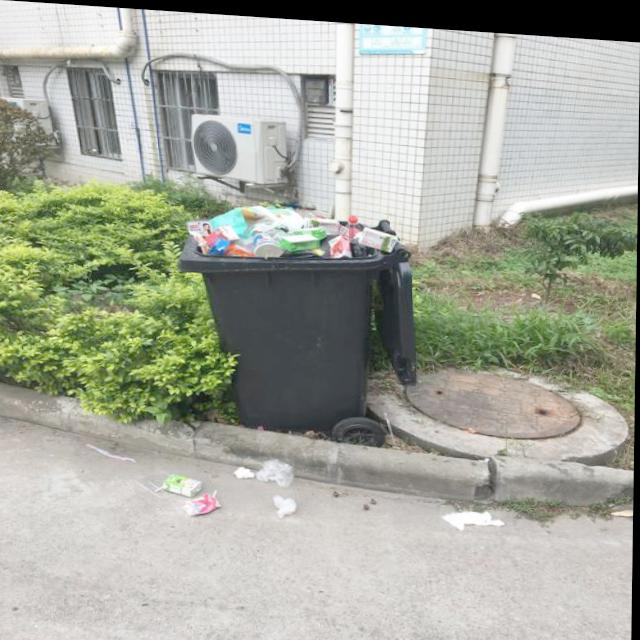garbage: (155, 448, 296, 519), (441, 498, 503, 525)
overflow: (179, 195, 419, 431)
